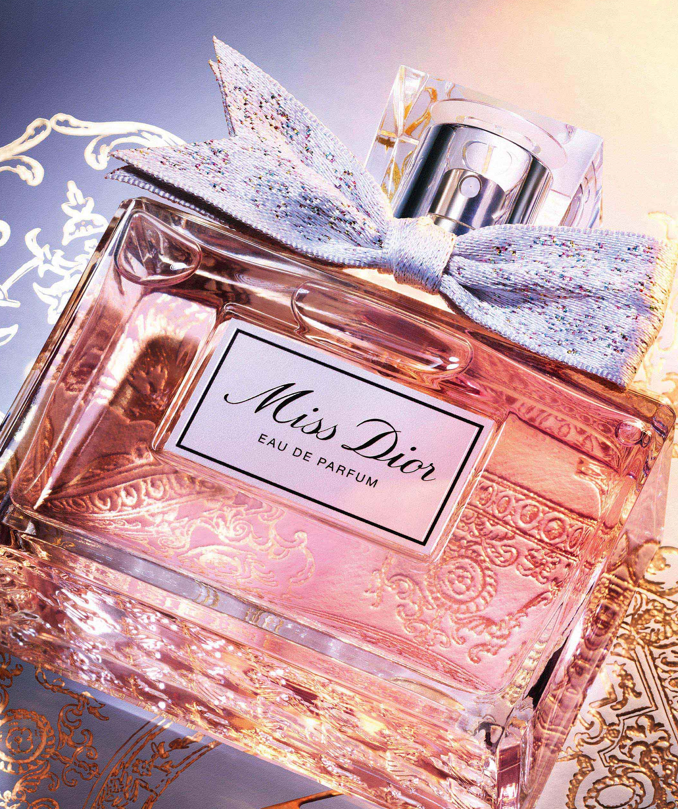dior_miss_dior: (8, 54, 661, 805)
